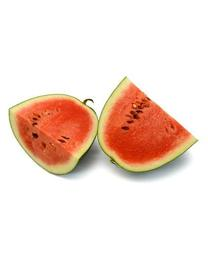watermelon: (9, 76, 198, 176)
